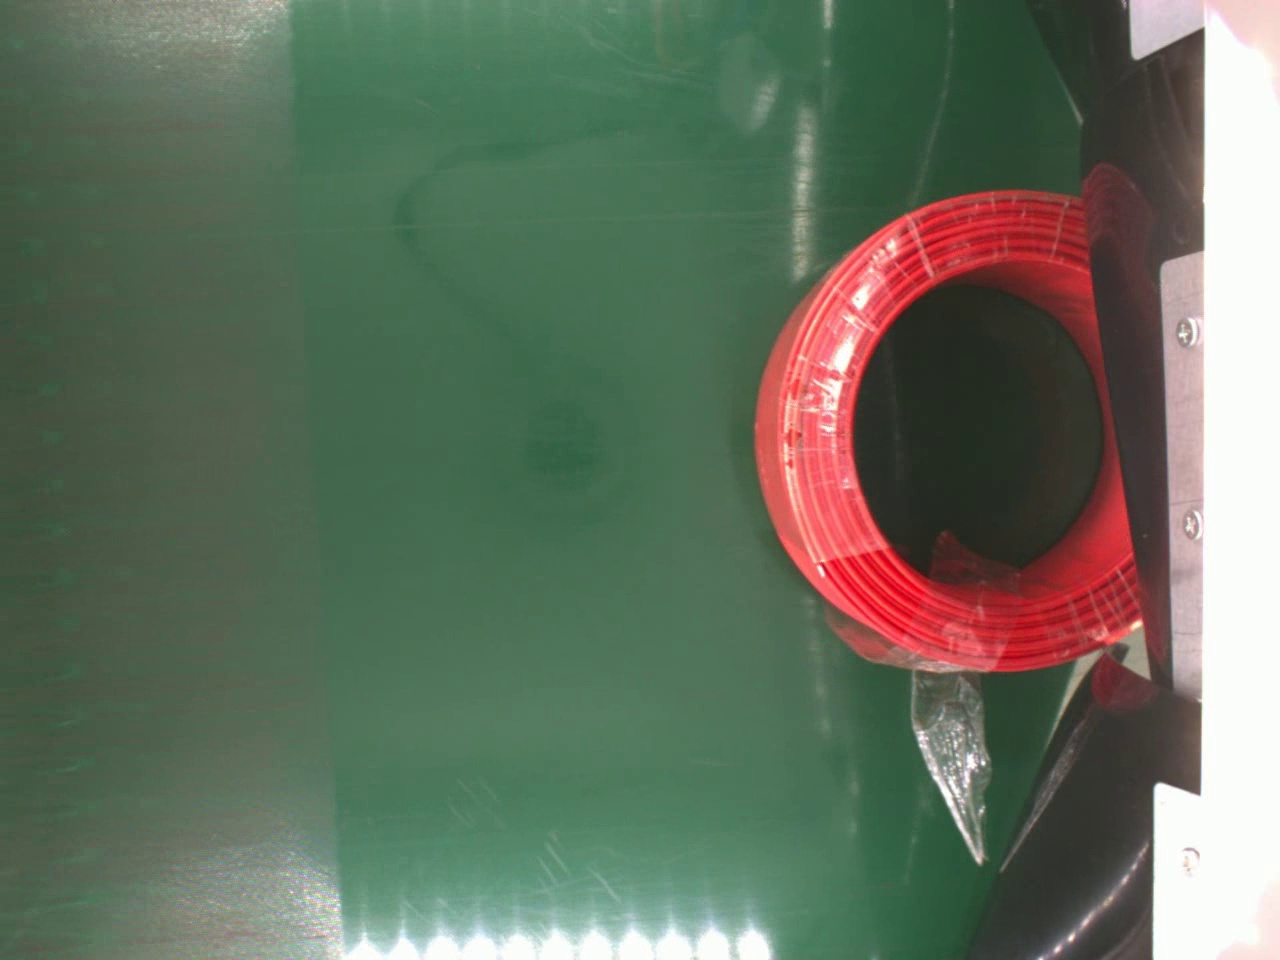red: (750, 187, 1145, 670)
